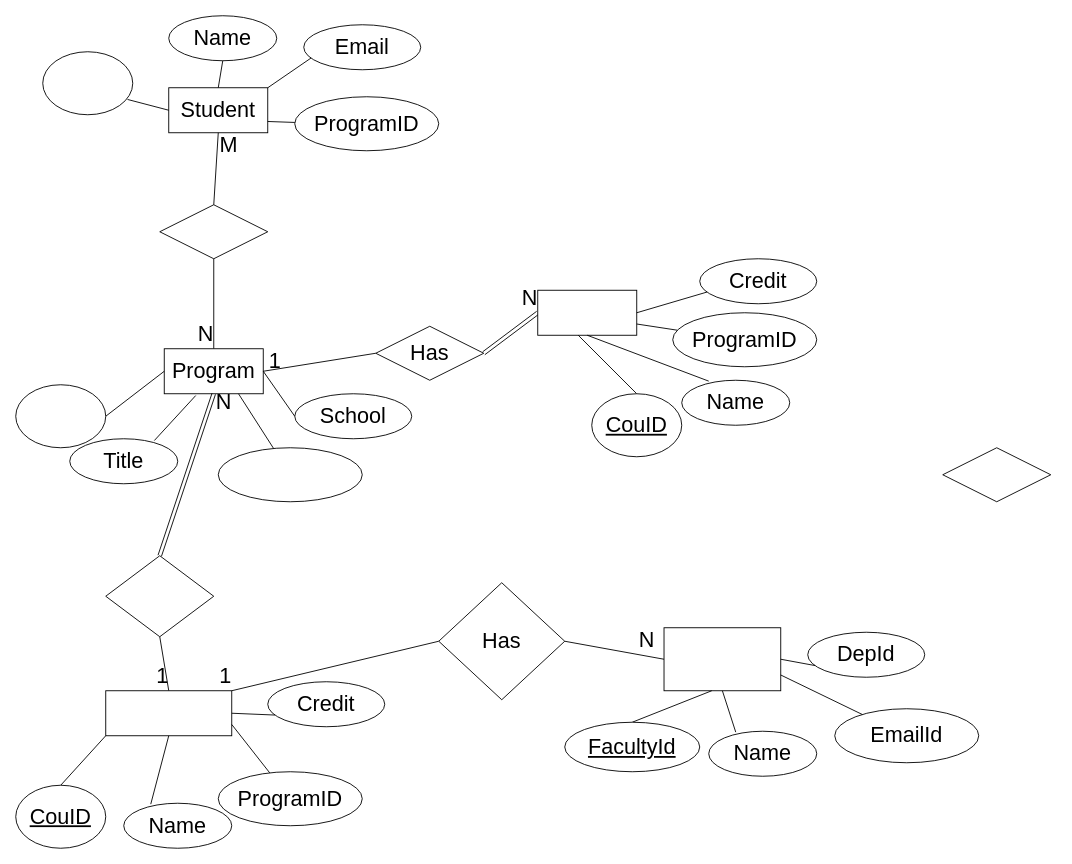
The diagram is 1072 pixels wide and 864 high, and some of its shapes have lost their labels. The centre of each missing label's shape, as x and y in pixels:
"Courses" goes at (x=587, y=312).
"Department" goes at (x=168, y=713).
"Descrip" goes at (x=289, y=474).
"Erolls" goes at (x=213, y=231).
"Faculty" goes at (x=722, y=659).
"Offer" goes at (x=159, y=596).
"ProgID" goes at (x=60, y=416).
"Relationship" goes at (x=996, y=474).
"StudID" goes at (x=87, y=83).
